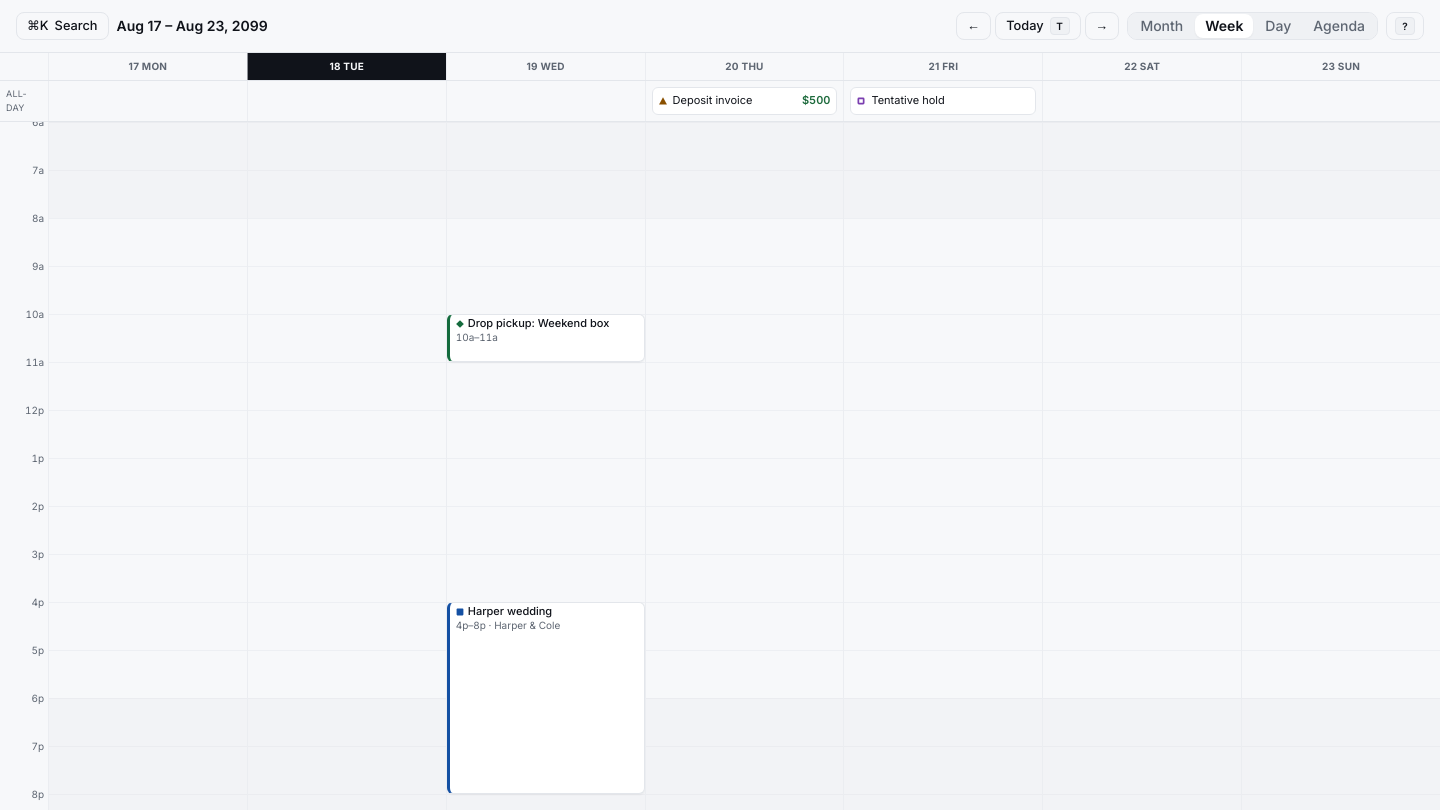
Test: peek — opening › a click on a grid chip opens the peek instead of navigating
Step 1. Click the link "Harper wedding 4p–8p · Harper & Cole" → [546, 698], box [447,602,645,794]
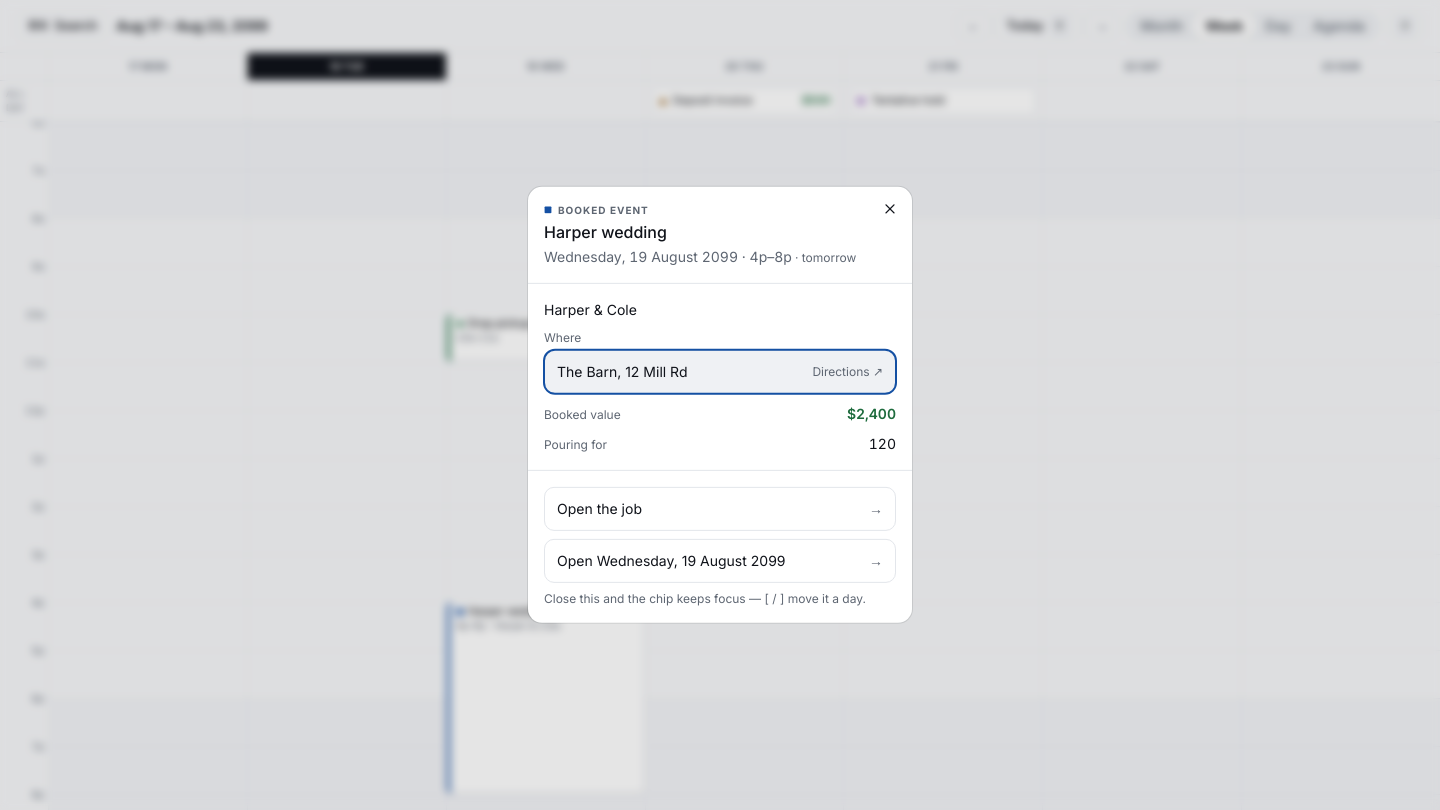
Expected: the heading "Harper wedding" is shown, [544,222,667,242]
